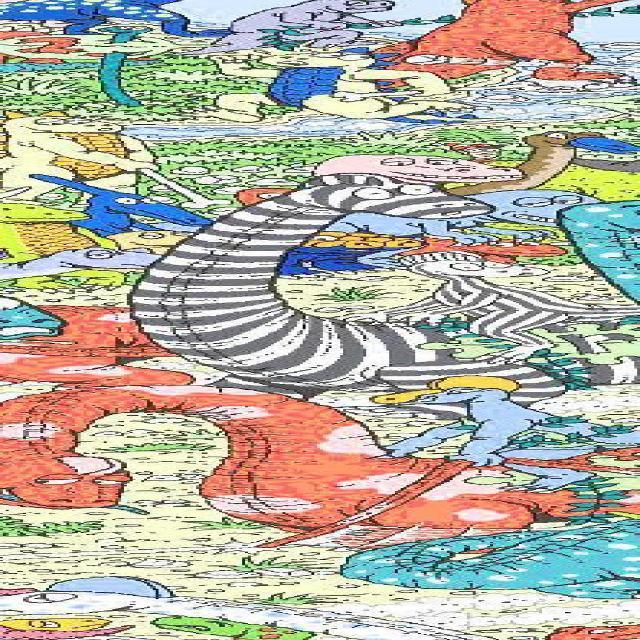waldo: (441, 143, 507, 158)
